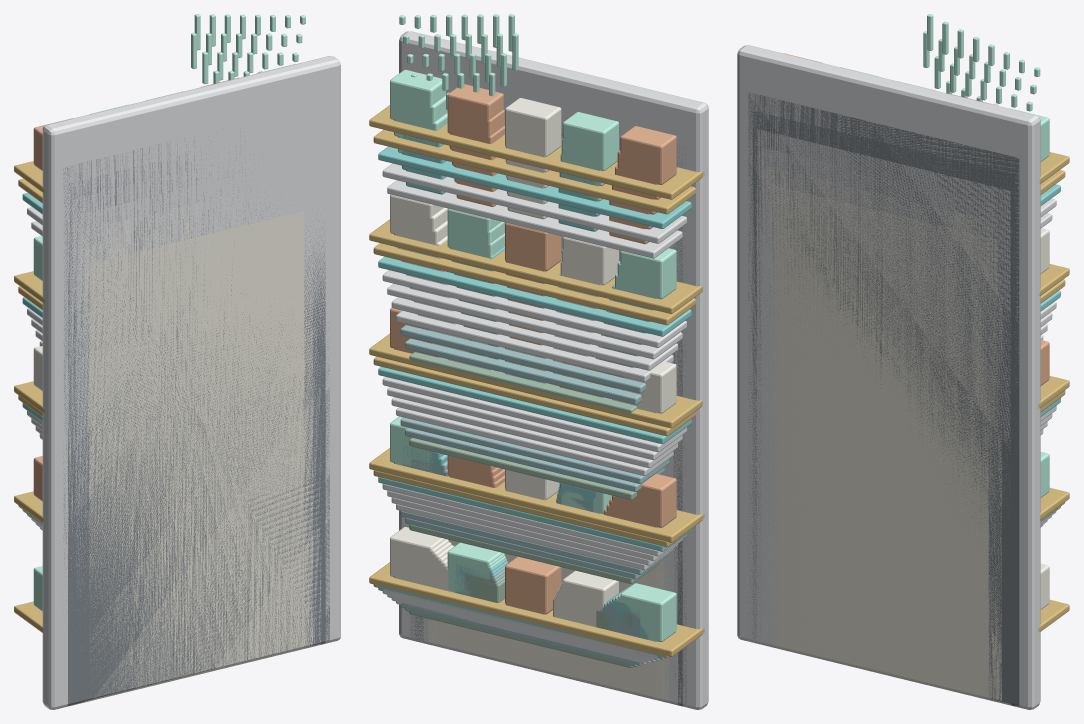
Rendered from Gear03.fbx.
3 renders of one model, left to right at view 1: azimuth 30°, elevation 25°; view 2: azimuth 150°, elevation 25°; view 3: azimuth 330°, elevation 25°, orthographic. The views are drawn at different scales.
Parts seen in each view (by area): view 1: Gear03_V2_Ivory, Gear03_V7_Graphite, Gear03_V10_Platinum, Gear03_V9_Platinum, Gear03_V4_Linen, Gear03_V1_Ivory, Gear03_V5_Platinum, Gear03_V3_Linen, Gear03_V8_Graphite, Gear03_V10_Gold, Gear03_V6_Platinum, Gear03_V10_Glow (+5 smaller); view 2: Gear03_V10_Platinum, Gear03_V10_Gold, Gear03_V10_Glow, Gear03_V6_Platinum, Gear03_V9_Gold, Gear03_V8_Aqua, Gear03_V7_Platinum, Gear03_V10_Apricot, Gear03_V10_Linen, Gear03_V5_Platinum, Gear03_V4_Platinum, Gear03_V1_Sage (+26 smaller); view 3: Gear03_V1_Ivory, Gear03_V10_Platinum, Gear03_V7_Graphite, Gear03_V8_Graphite, Gear03_V3_Linen, Gear03_V6_Platinum, Gear03_V4_Linen, Gear03_V9_Platinum, Gear03_V5_Platinum, Gear03_V2_Ivory, Gear03_V10_Gold, Gear03_V10_Glow (+5 smaller).
Part boxes in pixels (x1,y1,x2,y2): Gear03_V2_Ivory: (89, 211, 304, 698); Gear03_V7_Graphite: (67, 151, 325, 705); Gear03_V10_Platinum: (42, 56, 340, 709); Gear03_V9_Platinum: (58, 84, 334, 708); Gear03_V4_Linen: (80, 184, 312, 703); Gear03_V1_Ivory: (93, 229, 299, 664); Gear03_V5_Platinum: (35, 168, 316, 671); Gear03_V3_Linen: (84, 212, 308, 702); Gear03_V8_Graphite: (63, 128, 329, 641); Gear03_V10_Gold: (14, 161, 44, 632); Gear03_V6_Platinum: (31, 164, 321, 705); Gear03_V10_Glow: (33, 14, 305, 611); Gear03_V10_Platinum: (399, 31, 708, 709); Gear03_V10_Gold: (369, 105, 704, 656); Gear03_V10_Glow: (390, 14, 676, 641); Gear03_V6_Platinum: (387, 180, 682, 705); Gear03_V9_Gold: (373, 129, 695, 658); Gear03_V8_Aqua: (378, 146, 691, 659); Gear03_V7_Platinum: (382, 163, 686, 660); Gear03_V10_Apricot: (390, 84, 676, 613); Gear03_V10_Linen: (390, 98, 676, 624); Gear03_V5_Platinum: (391, 222, 677, 701); Gear03_V4_Platinum: (396, 311, 673, 664); Gear03_V1_Sage: (409, 327, 660, 667); Gear03_V1_Ivory: (779, 222, 988, 698); Gear03_V10_Platinum: (737, 45, 1040, 709); Gear03_V7_Graphite: (752, 111, 1015, 706); Gear03_V8_Graphite: (748, 93, 1019, 706); Gear03_V3_Linen: (770, 184, 997, 698); Gear03_V6_Platinum: (757, 129, 1052, 705); Gear03_V4_Linen: (766, 166, 1001, 700); Gear03_V9_Platinum: (744, 74, 1023, 675); Gear03_V5_Platinum: (761, 147, 1047, 701); Gear03_V2_Ivory: (774, 203, 992, 696); Gear03_V10_Gold: (1038, 152, 1069, 632); Gear03_V10_Glow: (840, 14, 1049, 497).
Bounding box in the file's own units: 136 × 285 × 30.
